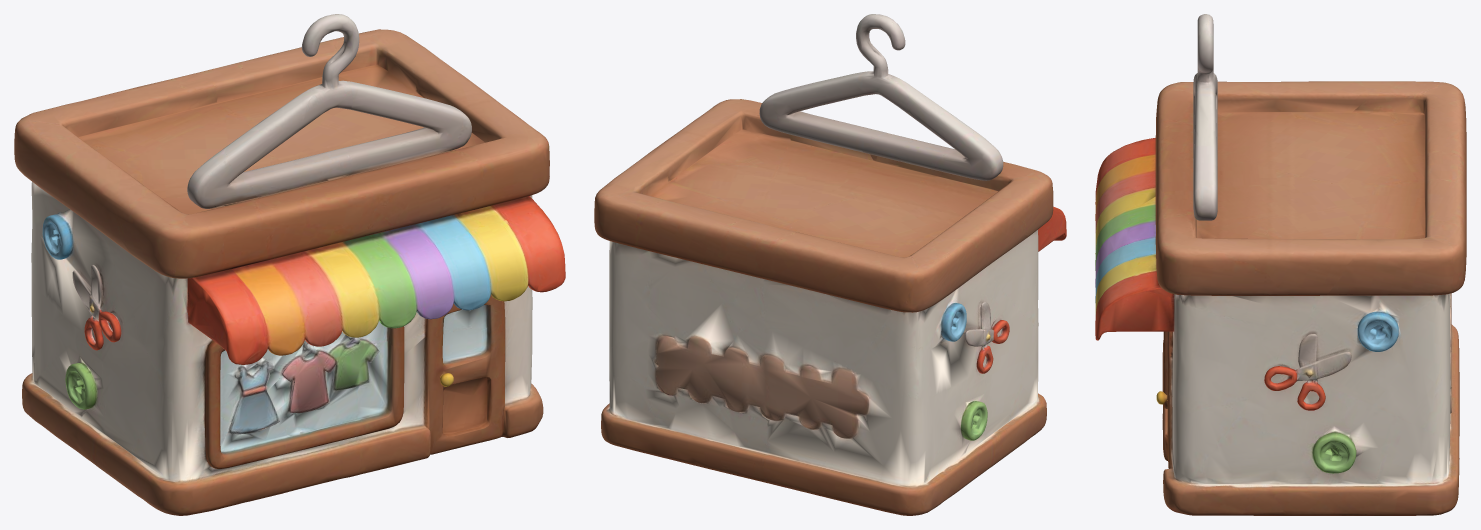
Rendered from tailor_shop.glb.
3 renders of one model, left to right at view 1: azimuth 30°, elevation 25°; view 2: azimuth 150°, elevation 25°; view 3: azimuth 270°, elevation 25°, orthographic. The views are drawn at different scales.
Visible parts, largest first — view 1: tripo_node_e2fc5843-da50-45e3-84c9-461467491b3a; view 2: tripo_node_e2fc5843-da50-45e3-84c9-461467491b3a; view 3: tripo_node_e2fc5843-da50-45e3-84c9-461467491b3a.
Part boxes in pixels (x1,y1,x2,y2): tripo_node_e2fc5843-da50-45e3-84c9-461467491b3a: [14, 14, 565, 515]; tripo_node_e2fc5843-da50-45e3-84c9-461467491b3a: [594, 14, 1066, 515]; tripo_node_e2fc5843-da50-45e3-84c9-461467491b3a: [1095, 14, 1466, 515].
Bounding box in the file's own units: 0.9243 × 0.9994 × 0.8182.
Materials: 1 (1 with a texture image).
